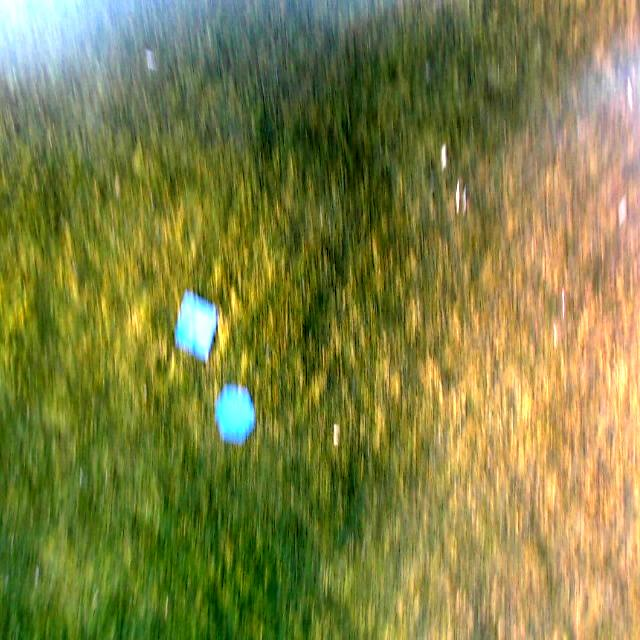blue_hexagon: (216, 388, 256, 440)
blue_square: (174, 295, 219, 359)
